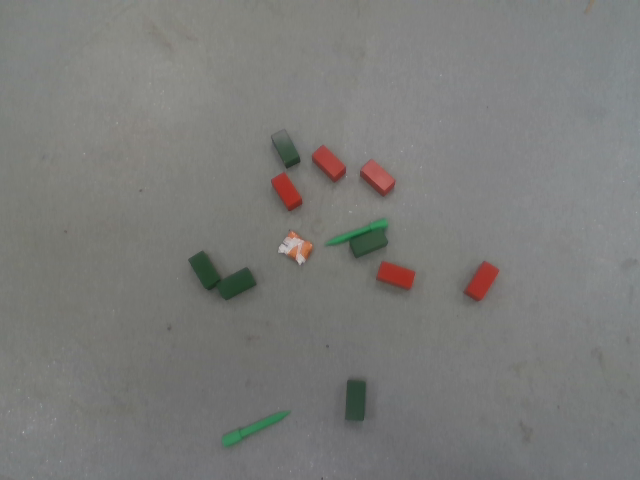Probe: (220, 407, 293, 448), (323, 216, 389, 247)
